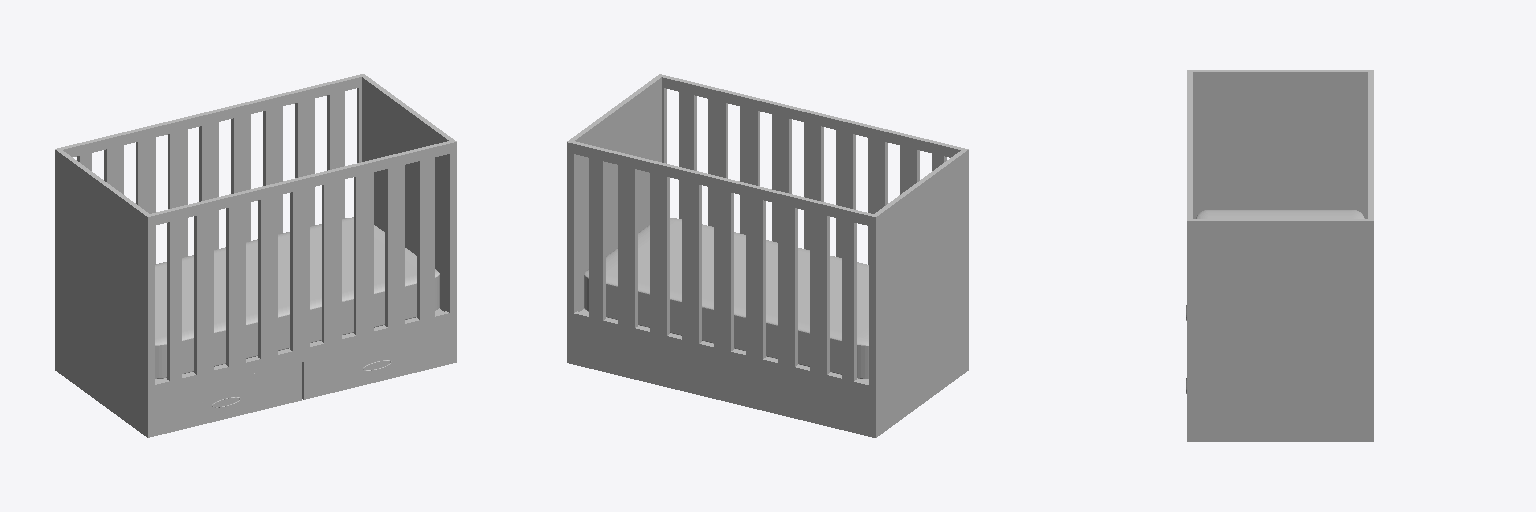
Rendered from Cots_FritidsRed.obj.
The picture shows the model from 3 angles: view 1: azimuth 30°, elevation 25°; view 2: azimuth 150°, elevation 25°; view 3: azimuth 270°, elevation 25°; orthographic projection.
Visible parts, largest first — view 1: obj_0; view 2: obj_0; view 3: obj_0.
Part boxes in pixels (x1,y1,x2,y2): obj_0: (55,74,456,437); obj_0: (567,74,968,437); obj_0: (1186,70,1373,441).
Size of the model in its own units: 126 by 86 by 66.